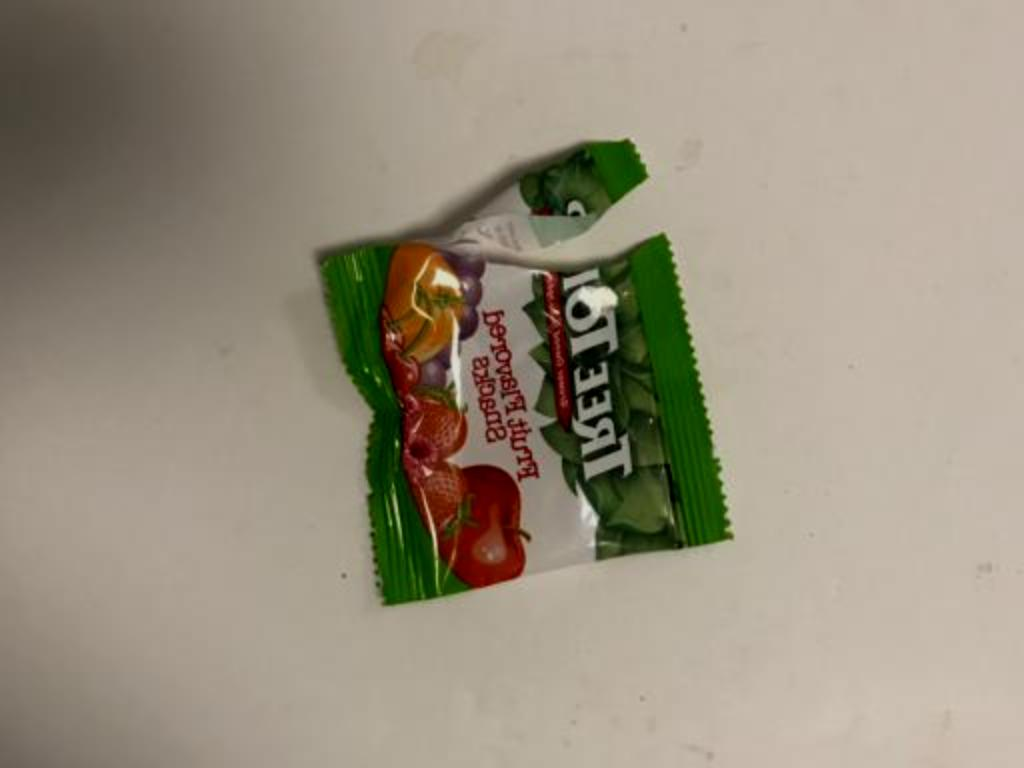garbage: (286, 119, 752, 641)
